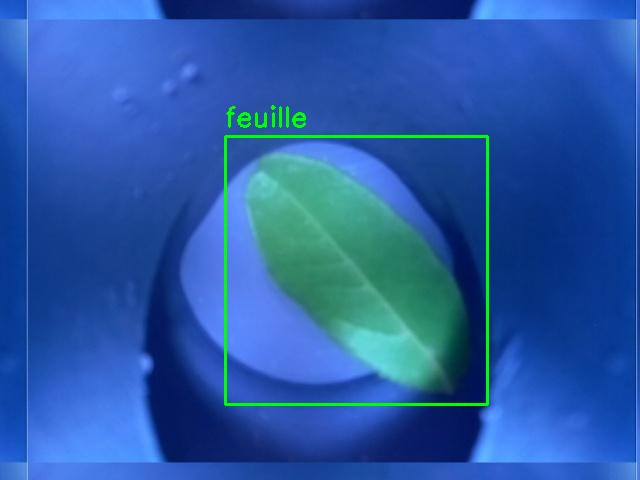feuille: (225, 136, 487, 404)
